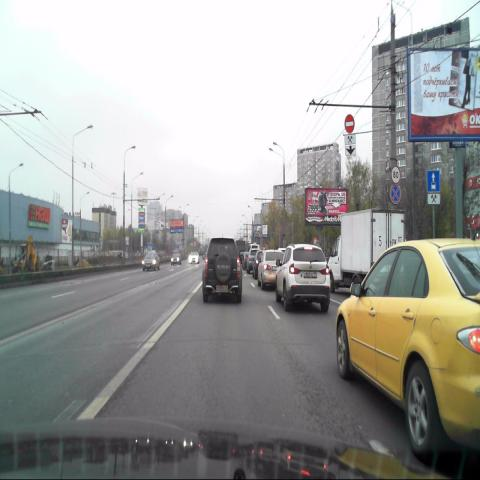5_14: (426, 171, 440, 192)
